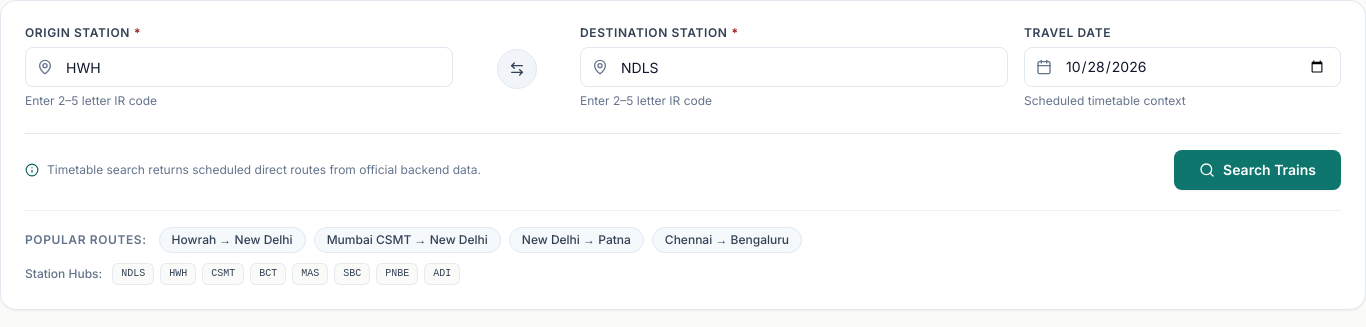
Scenario: TrainSearchForm Component › swaps origin and destination when clicking the swap button
The width and height of the screenshot is (1366, 327).
Expected: the field labelled "Origin Station*" holds "HWH", [25,47,453,87]
Expected: the field labelled "Destination Station*" holds "NDLS", [580,47,1008,87]
Click the button named "Swap origin and destination".
click(516, 69)  # box [496,49,536,89]
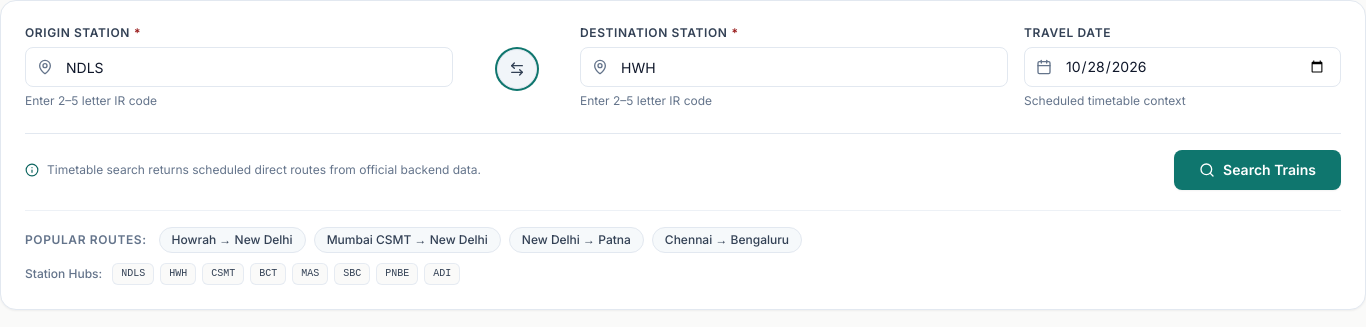
Expected: the field labelled "Origin Station*" holds "NDLS", [25,47,453,87]
Expected: the field labelled "Destination Station*" holds "HWH", [580,47,1008,87]
